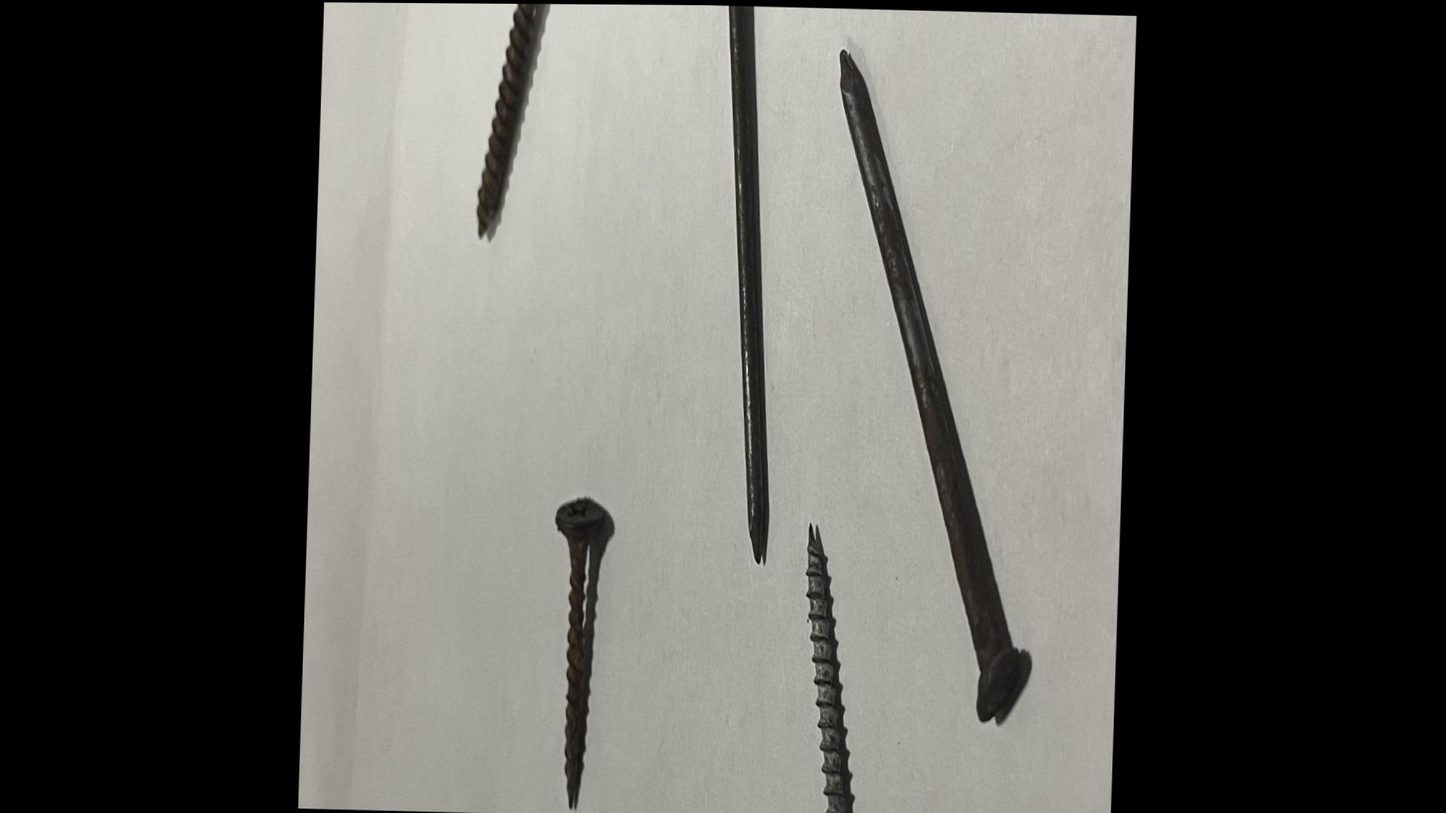nail: (804, 29, 1057, 750), (689, 4, 792, 578)
screw: (787, 512, 917, 813), (469, 3, 579, 253), (544, 479, 623, 813)
